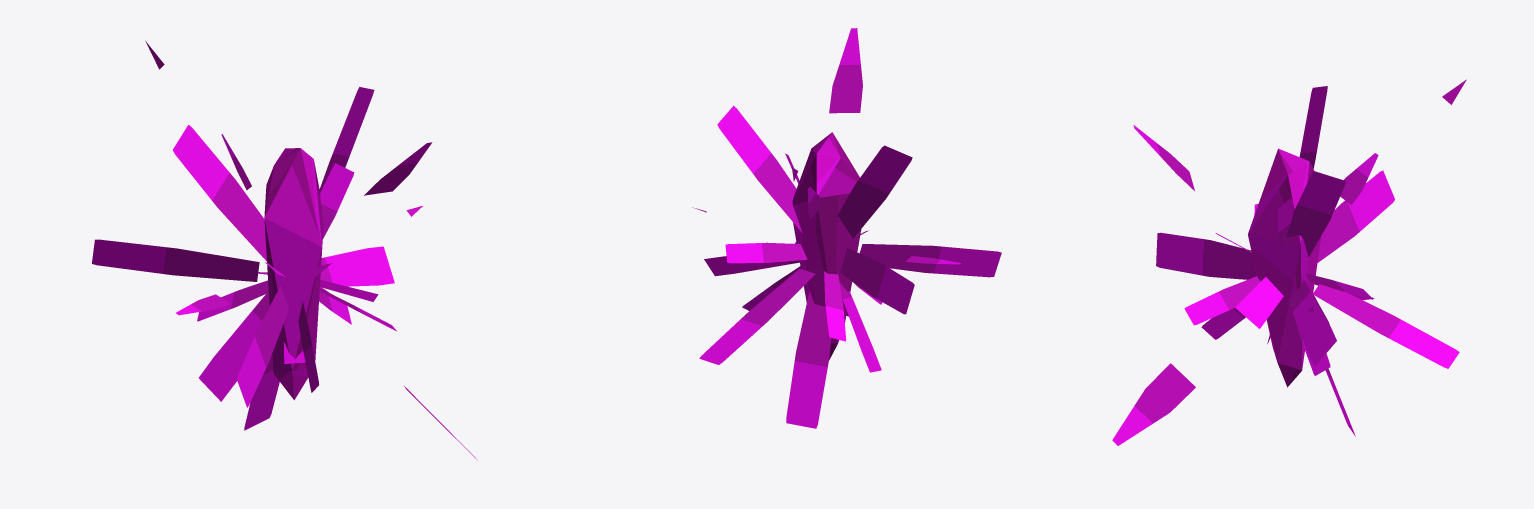
The model's file is Crystal.obj.
3 views of the same model, side by side, from view 1: azimuth 30°, elevation 25°; view 2: azimuth 150°, elevation 25°; view 3: azimuth 270°, elevation 25° (orthographic). The views are drawn at different scales.
Parts seen in each view (by area): view 1: Sparks, Crystal; view 2: Sparks, Crystal; view 3: Sparks, Crystal.
Part boxes in pixels (x1,y1,x2,y2): Sparks: (92,41,477,460); Crystal: (264,148,323,400); Sparks: (692,28,1001,428); Crystal: (792,132,861,360); Sparks: (1112,79,1466,445); Crystal: (1248,148,1321,387).
Size of the model in its own units: 62.99 by 62.78 by 57.63.
